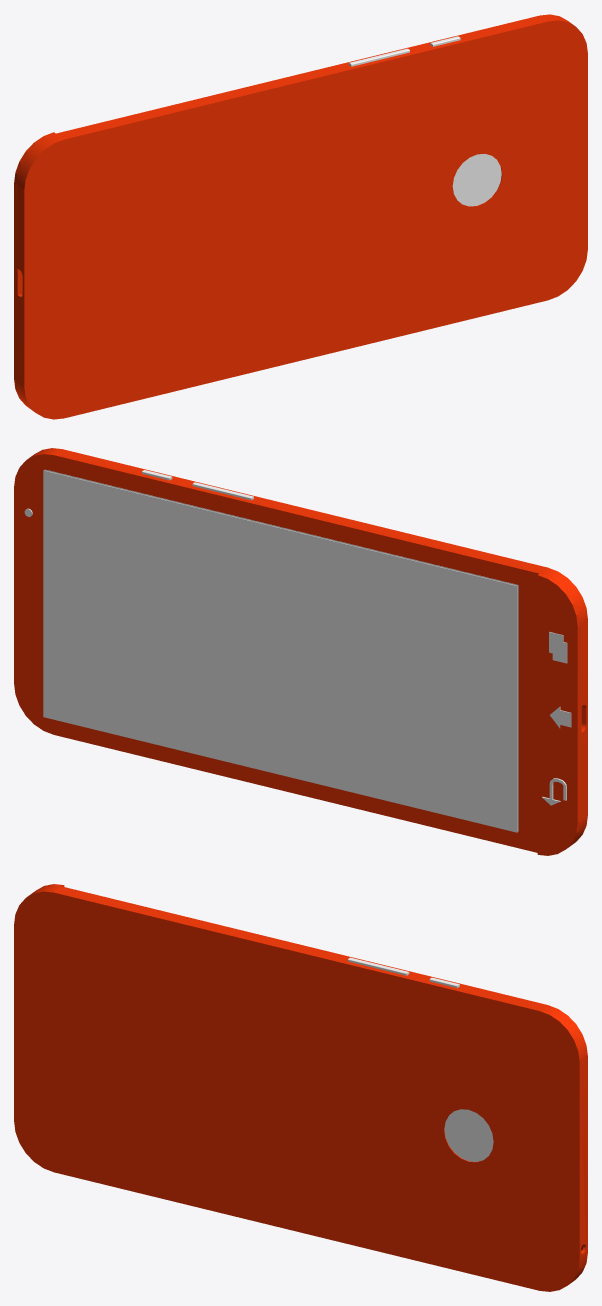
Rendered from weebPhone.fbx.
The picture shows the model from 3 angles, top to bottom: view 1: azimuth 30°, elevation 25°; view 2: azimuth 150°, elevation 25°; view 3: azimuth 330°, elevation 25°; orthographic projection.
Visible parts, largest first — view 1: Button_Back; view 2: Button_Back; view 3: Button_Back.
Boxes of the visible parts, left/top/right/bottom form: Button_Back: left=14, top=14, right=587, bottom=419; Button_Back: left=14, top=448, right=587, bottom=855; Button_Back: left=14, top=884, right=587, bottom=1291.
Size of the model in its own units: 1247 by 594 by 41.93.
